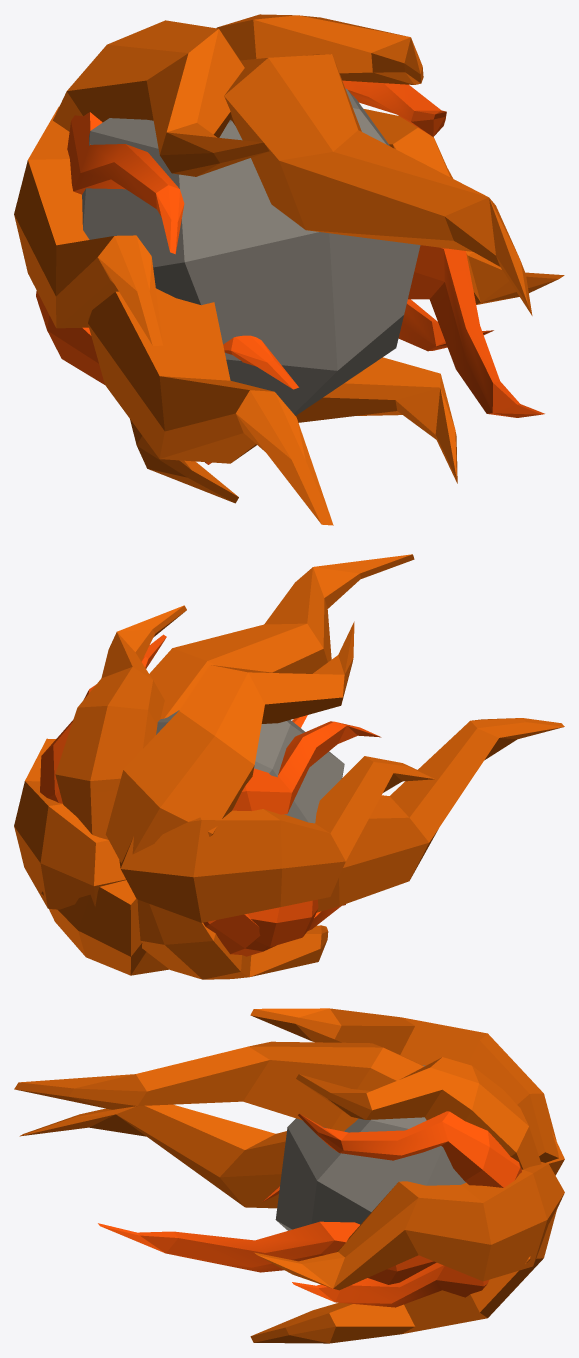
The model's file is firefinal.glb.
The picture shows the model from 3 angles, top to bottom: view 1: azimuth 30°, elevation 25°; view 2: azimuth 150°, elevation 25°; view 3: azimuth 270°, elevation 25°; orthographic projection. The views are drawn at different scales.
Parts seen in each view (by area): view 1: pCube2676; view 2: pCube2676; view 3: pCube2676.
Part boxes in pixels (x1=…): pCube2676: x1=14, y1=14, x2=564, y2=525; pCube2676: x1=14, y1=554, x2=564, y2=979; pCube2676: x1=14, y1=1008, x2=564, y2=1343.
Bounding box in the file's own units: 0.748 × 0.7102 × 1.25.
